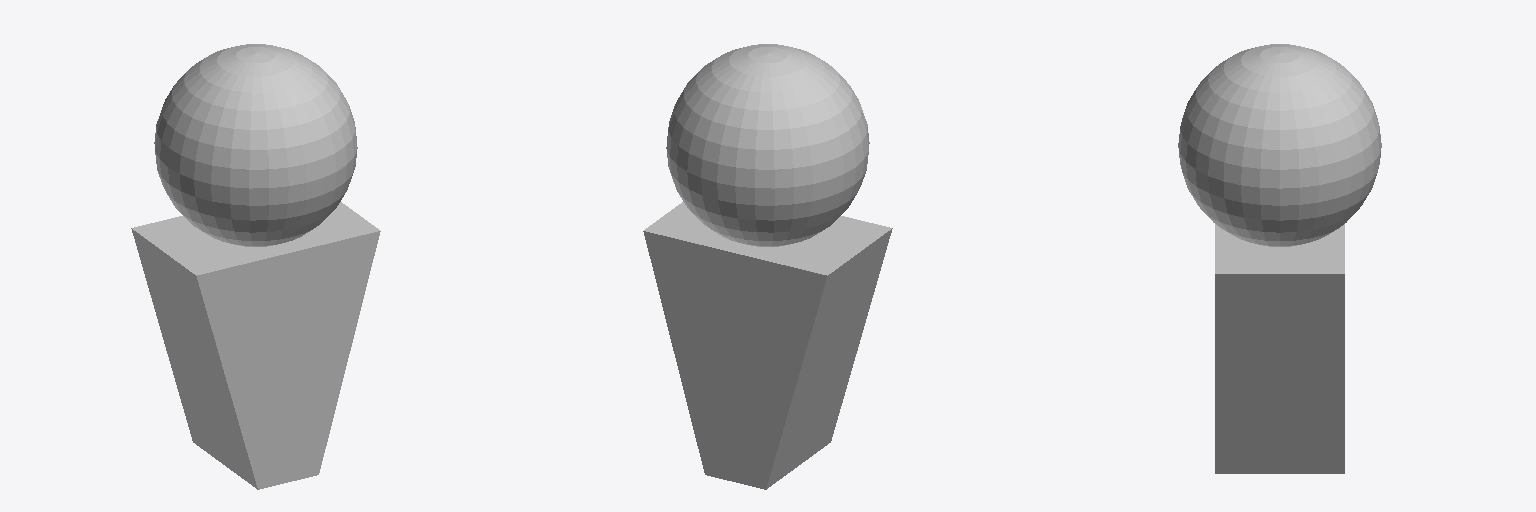
File: player.obj
3 renders of one model, left to right at view 1: azimuth 30°, elevation 25°; view 2: azimuth 150°, elevation 25°; view 3: azimuth 270°, elevation 25°, orthographic.
Parts seen in each view (by area): view 1: 立方体.001; view 2: 立方体.001; view 3: 立方体.001.
Part boxes in pixels (x1,y1,x2,y2): 立方体.001: (131,44,380,489); 立方体.001: (643,44,892,489); 立方体.001: (1178,44,1381,473).
Size of the model in its own units: 0.8423 by 1.77 by 0.8052.